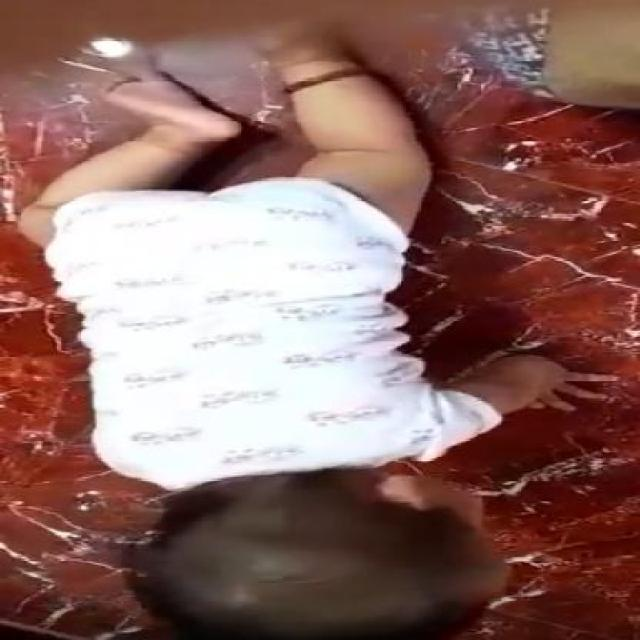baby: (17, 34, 617, 637)
